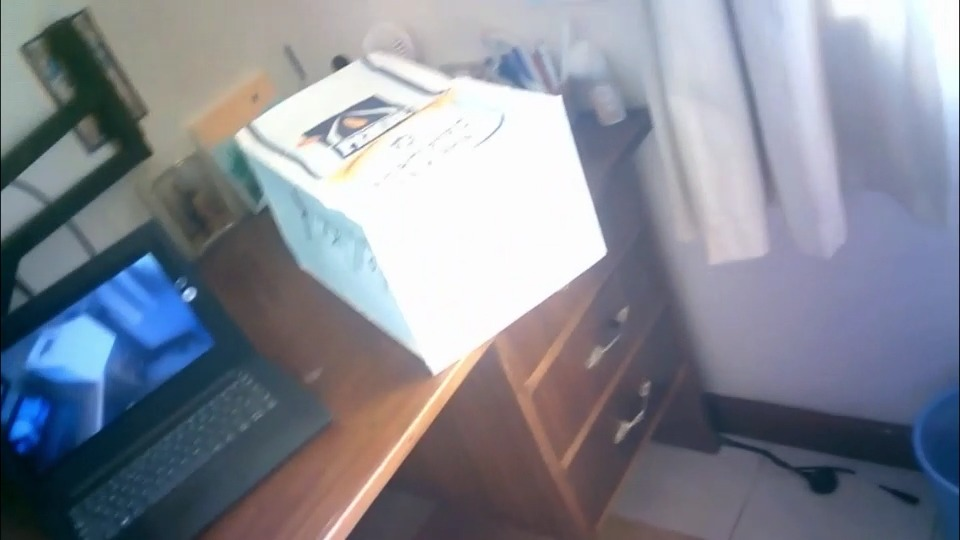wheat_flour_blue_label: (235, 57, 610, 371)
